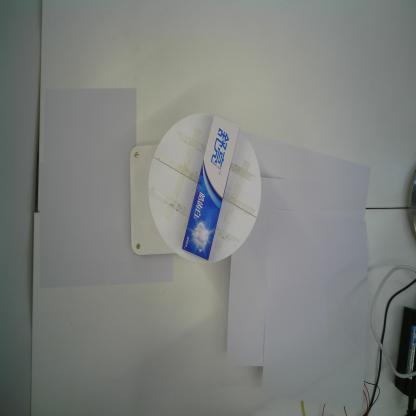Personal Hygiene: (182, 112, 242, 261)
